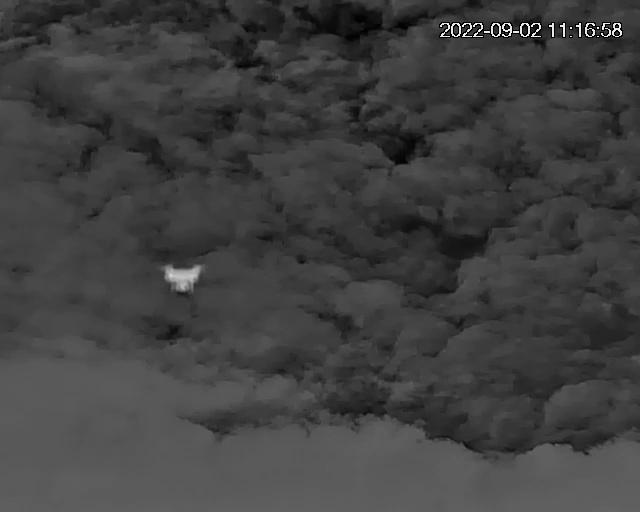DJI-Phantom: (159, 262, 206, 298)
